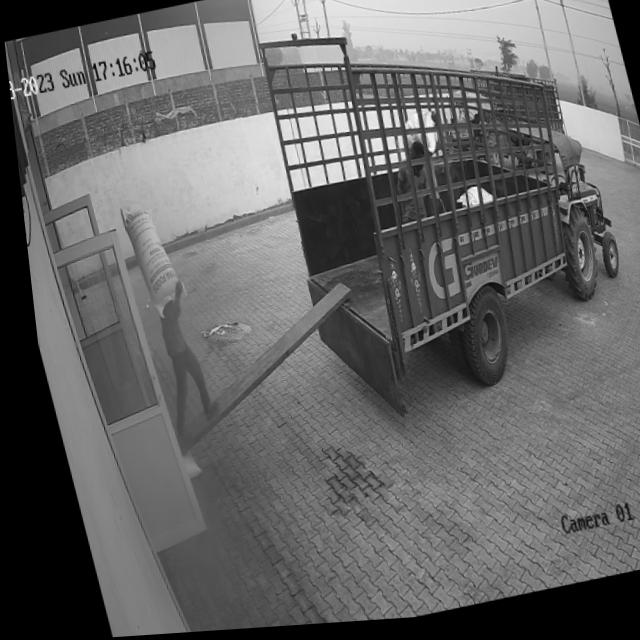sack: (114, 204, 179, 321)
